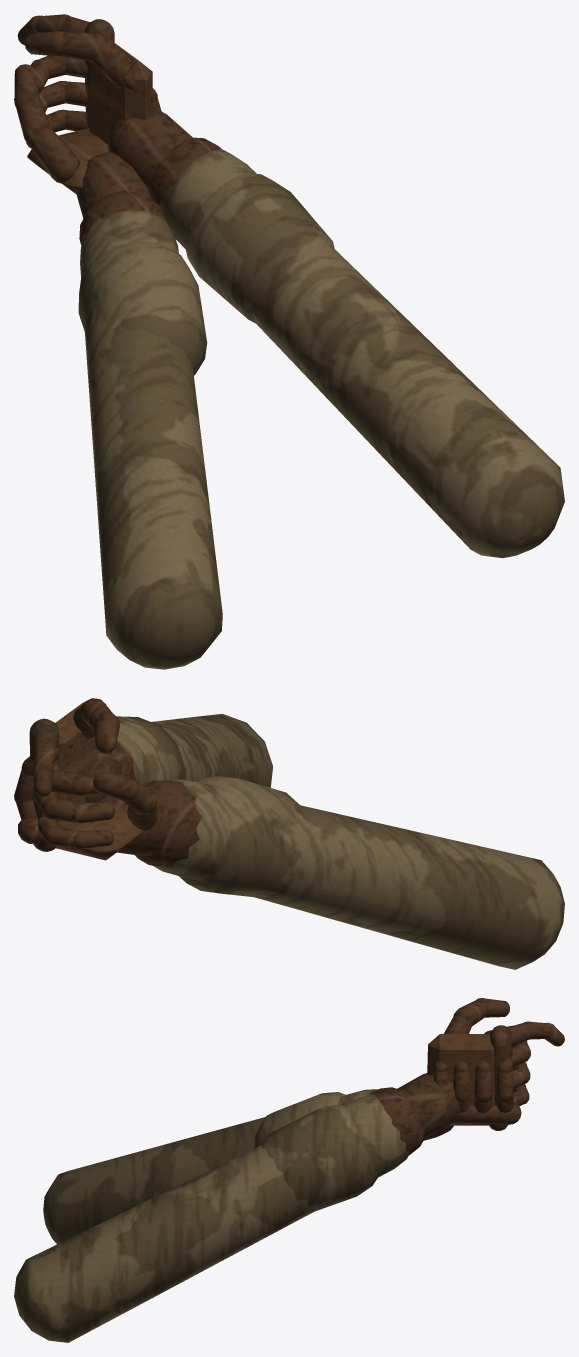
Rendered from hands.glb.
3 renders of one model, top to bottom at view 1: azimuth 30°, elevation 25°; view 2: azimuth 150°, elevation 25°; view 3: azimuth 270°, elevation 25°, orthographic. The views are drawn at different scales.
Parts seen in each view (by area): view 1: hand_r_phoenix, hand_l_phoenix; view 2: hand_l_phoenix, hand_r_phoenix; view 3: hand_r_phoenix, hand_l_phoenix.
Part boxes in pixels (x1,y1,x2,y2): hand_r_phoenix: [17, 14, 564, 558]; hand_l_phoenix: [14, 64, 222, 669]; hand_l_phoenix: [14, 735, 564, 969]; hand_r_phoenix: [29, 698, 273, 851]; hand_r_phoenix: [14, 998, 564, 1342]; hand_l_phoenix: [43, 1025, 521, 1244].
Bounding box in the file's own units: 13.91 × 12.61 × 20.12.
Materials: 16 (16 with a texture image).
